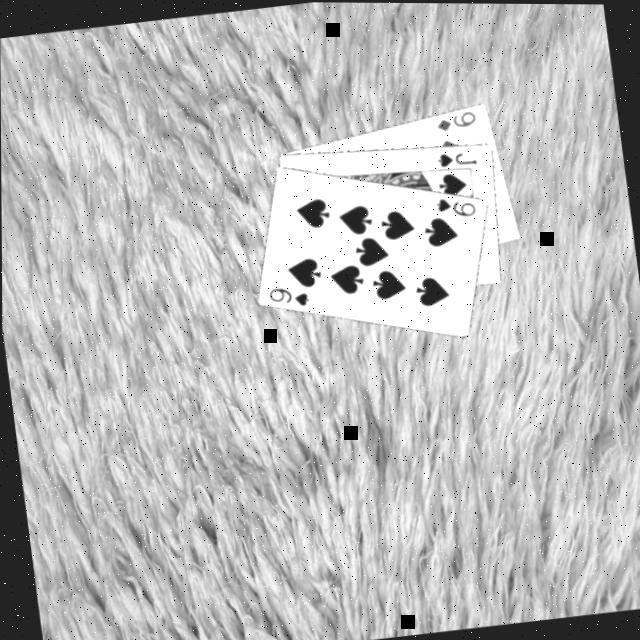9D: (432, 107, 480, 134)
9S: (432, 190, 481, 222), (264, 280, 313, 312)
JS: (434, 145, 480, 170)
